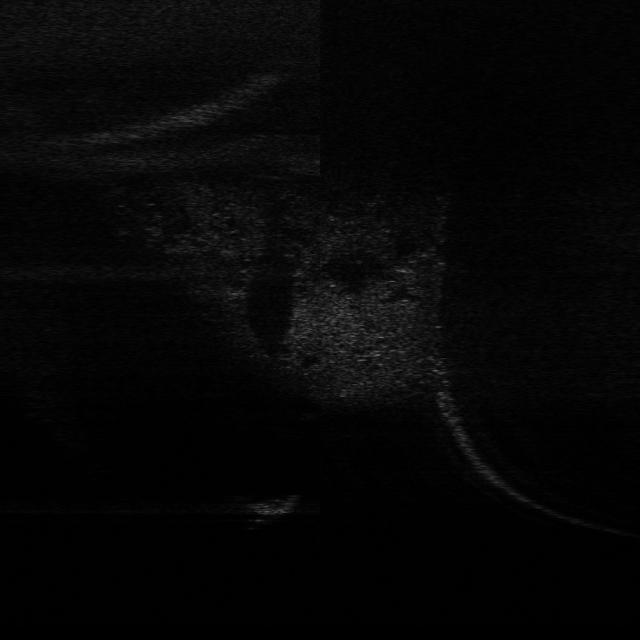cube: (230, 492, 300, 523)
